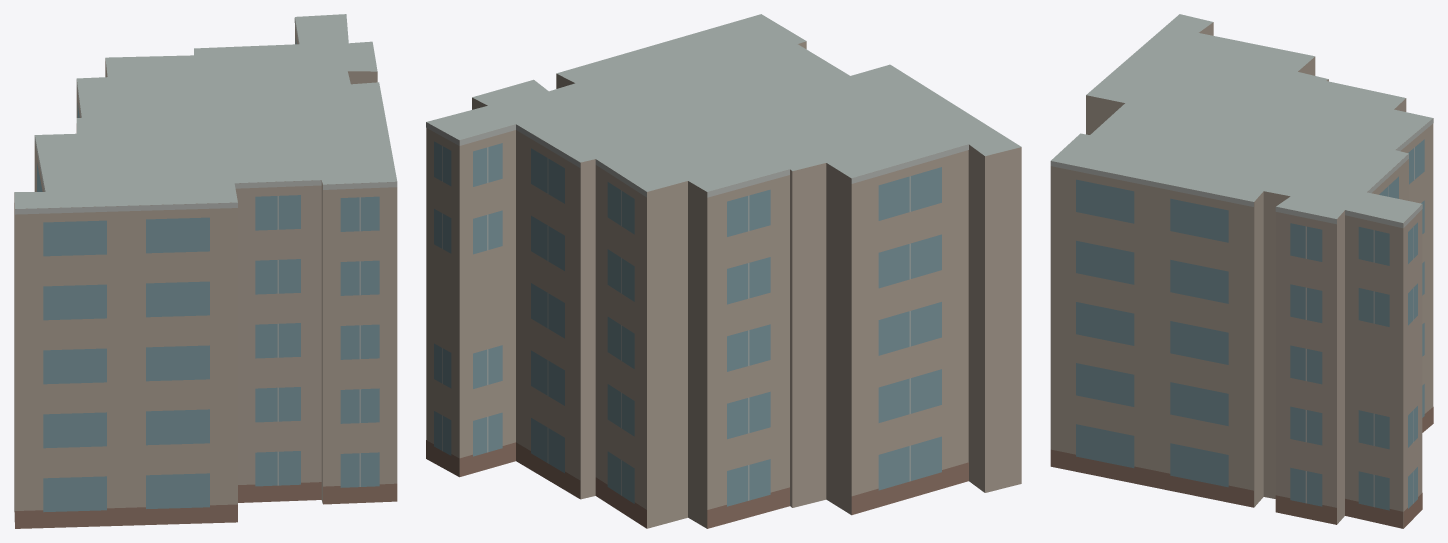
Rendered from survey-upis-32636436.glb.
The picture shows the model from 3 angles, left to right: view 1: azimuth 30°, elevation 25°; view 2: azimuth 150°, elevation 25°; view 3: azimuth 270°, elevation 25°; orthographic projection. The views are drawn at different scales.
Parts seen in each view (by area): view 1: survey-upis-32636436.tmp; view 2: survey-upis-32636436.tmp; view 3: survey-upis-32636436.tmp.
Boxes of the visible parts, box(x1,y1,x2,y2) form: survey-upis-32636436.tmp: box(14, 14, 397, 528); survey-upis-32636436.tmp: box(426, 14, 1021, 528); survey-upis-32636436.tmp: box(1050, 14, 1433, 528).
Size of the model in its own units: 21.16 by 14.41 by 16.36.
